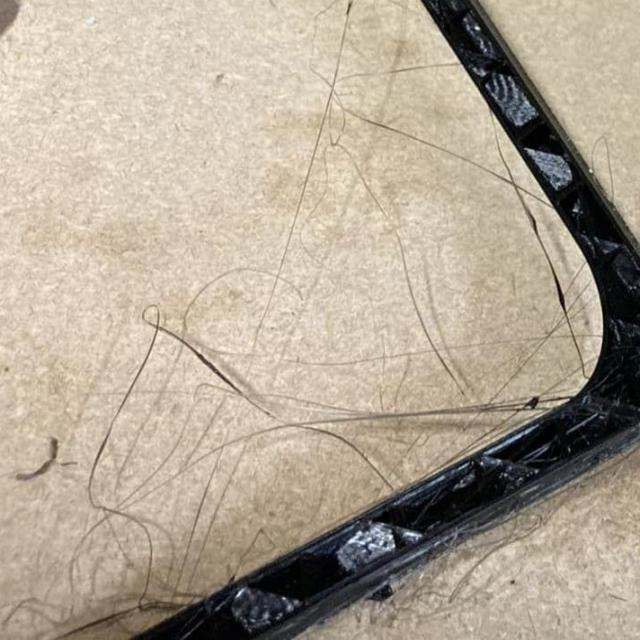Stringing: (127, 301, 397, 495), (487, 125, 596, 387), (320, 392, 564, 428)
